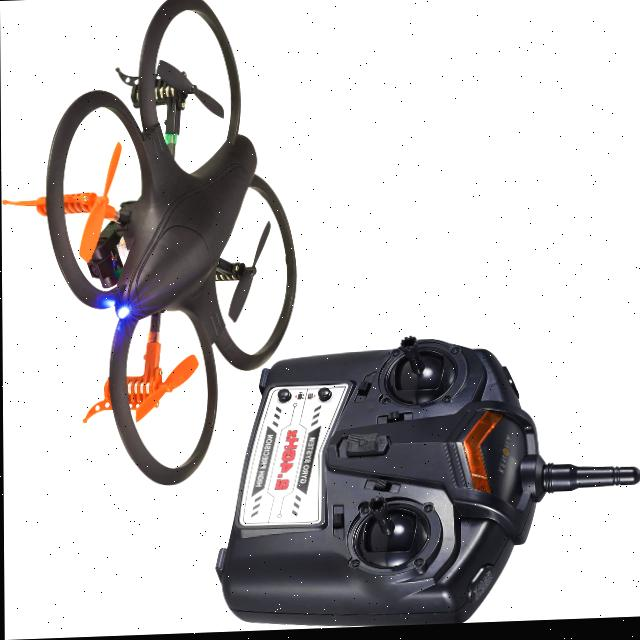drone: (0, 0, 313, 510)
